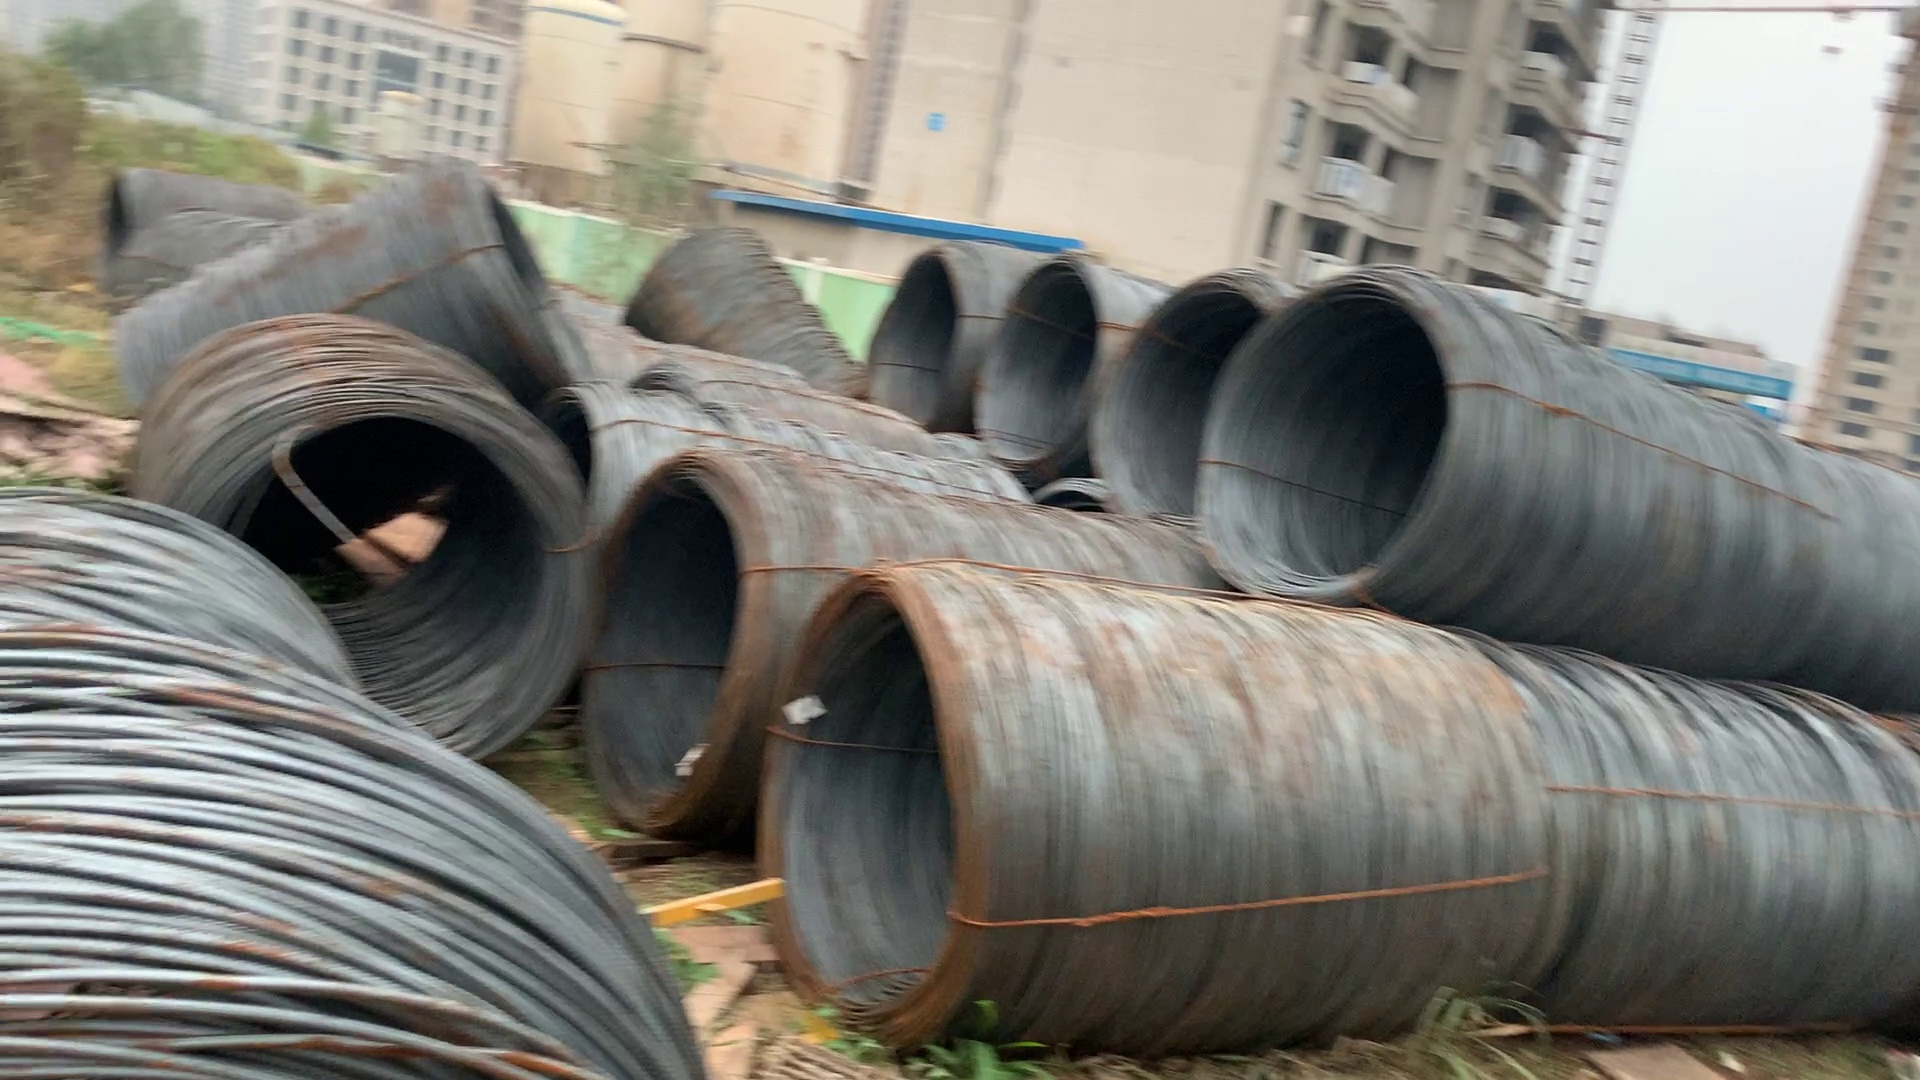coil: (177, 393, 599, 779), (782, 571, 982, 1046), (1196, 274, 1455, 618), (599, 471, 749, 832), (1106, 272, 1274, 535), (471, 164, 599, 421), (978, 249, 1096, 491), (865, 255, 968, 433), (94, 171, 149, 274)
